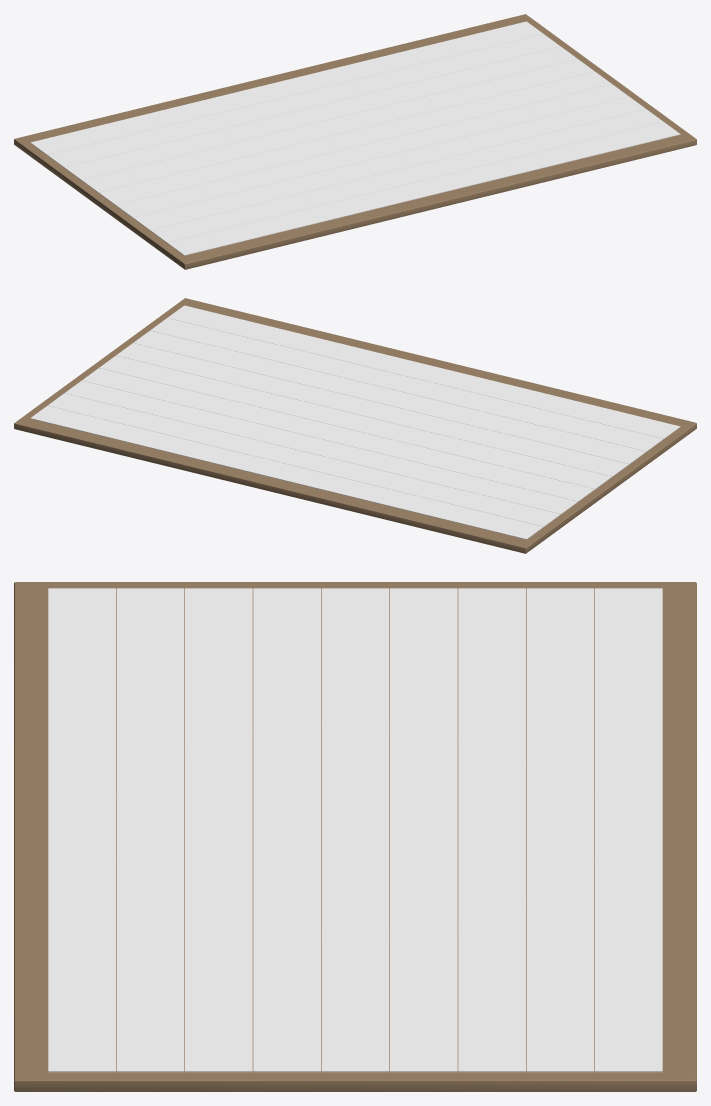
The model's file is craftsman_desk.glb.
3 views of the same model, one above another, from view 1: azimuth 30°, elevation 25°; view 2: azimuth 150°, elevation 25°; view 3: azimuth 270°, elevation 25° (orthographic). The views are drawn at different scales.
Visible parts, largest first — view 1: Craftsman_Desk_Root; view 2: Craftsman_Desk_Root; view 3: Craftsman_Desk_Root.
Part boxes in pixels (box(x1,y1,x2,y2)): Craftsman_Desk_Root: box(14, 14, 696, 269); Craftsman_Desk_Root: box(14, 298, 696, 553); Craftsman_Desk_Root: box(14, 582, 696, 1091).
Bounding box in the file's own units: 38 × 0.484 × 22.
